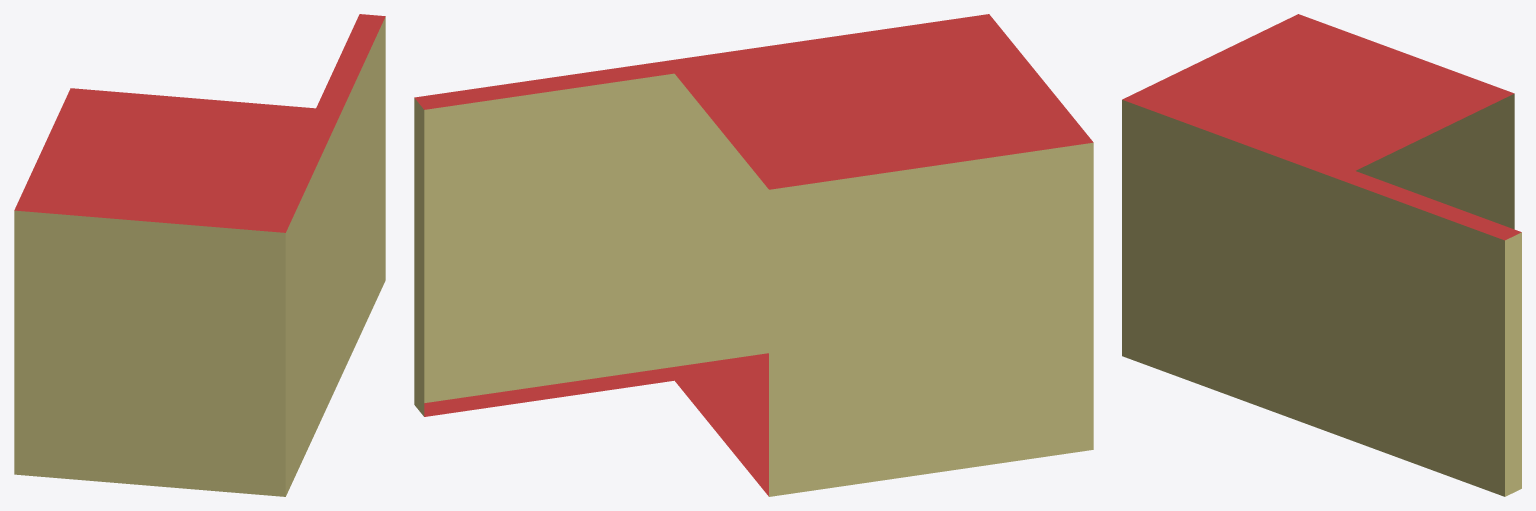
The picture shows the model from 3 angles, left to right: view 1: azimuth 30°, elevation 25°; view 2: azimuth 150°, elevation 25°; view 3: azimuth 270°, elevation 25°; orthographic projection. The views are drawn at different scales.
Bounding box in the file's own units: 11.93 × 8.9 × 6.3.
